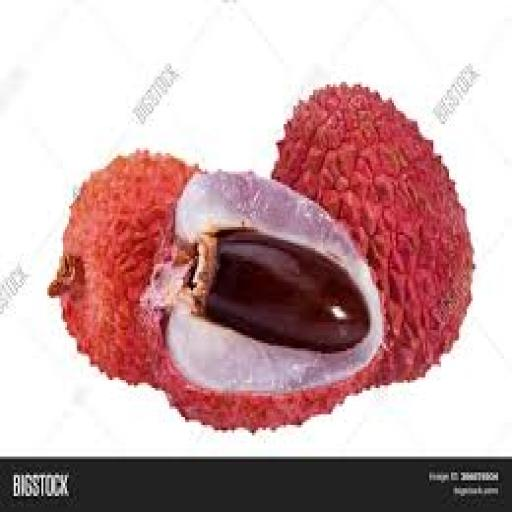lychee: (50, 85, 472, 430), (274, 85, 472, 385), (50, 151, 196, 385)
